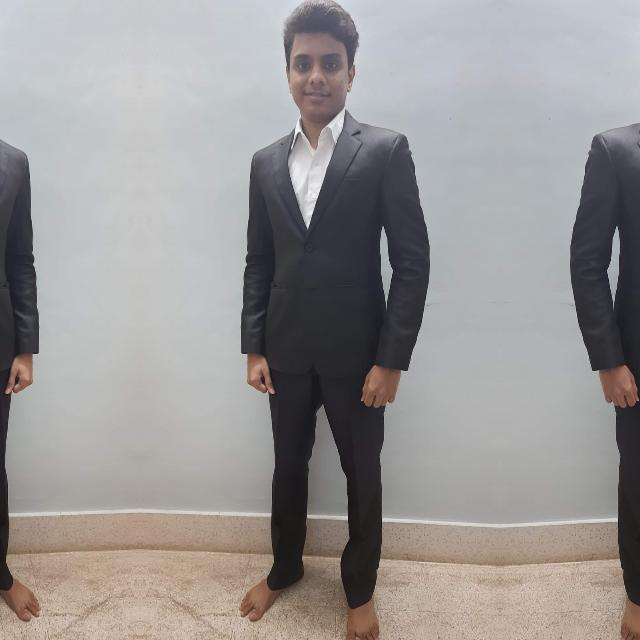person: (233, 0, 414, 636), (583, 0, 640, 636), (0, 0, 44, 636)
